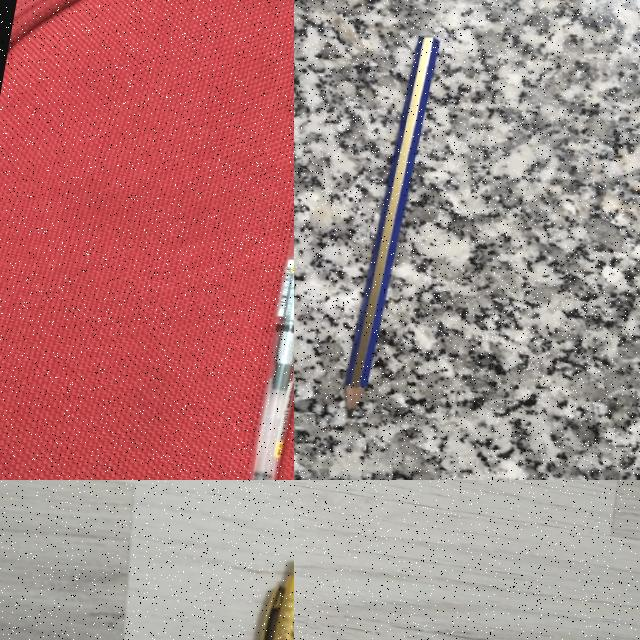pen: (251, 234, 293, 479)
pencil: (345, 37, 438, 412)
signature pen: (260, 562, 294, 640)
